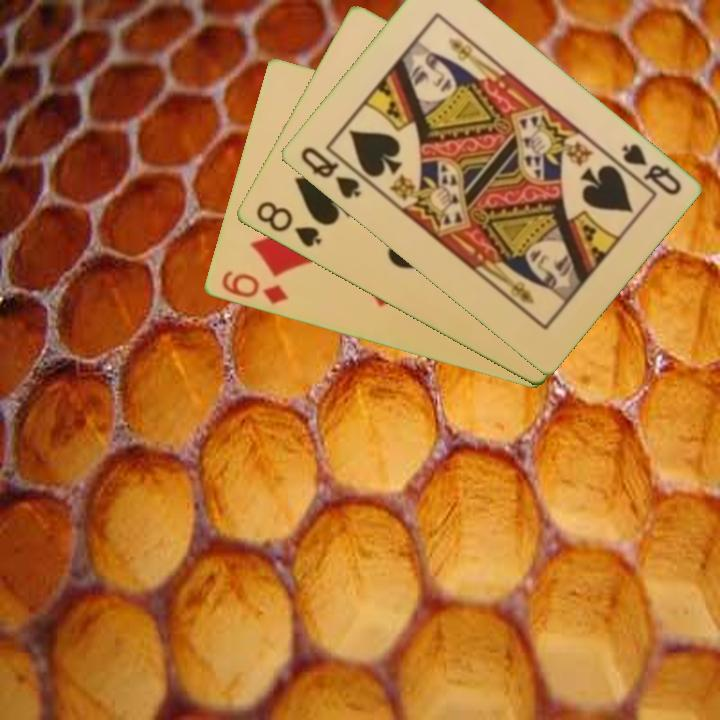6d: (217, 267, 291, 308)
8s: (252, 197, 324, 251)
Qs: (609, 140, 684, 199), (296, 143, 364, 202)
